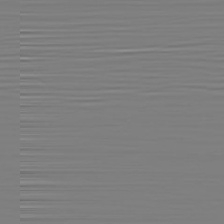cavities: (84, 101, 200, 169)
